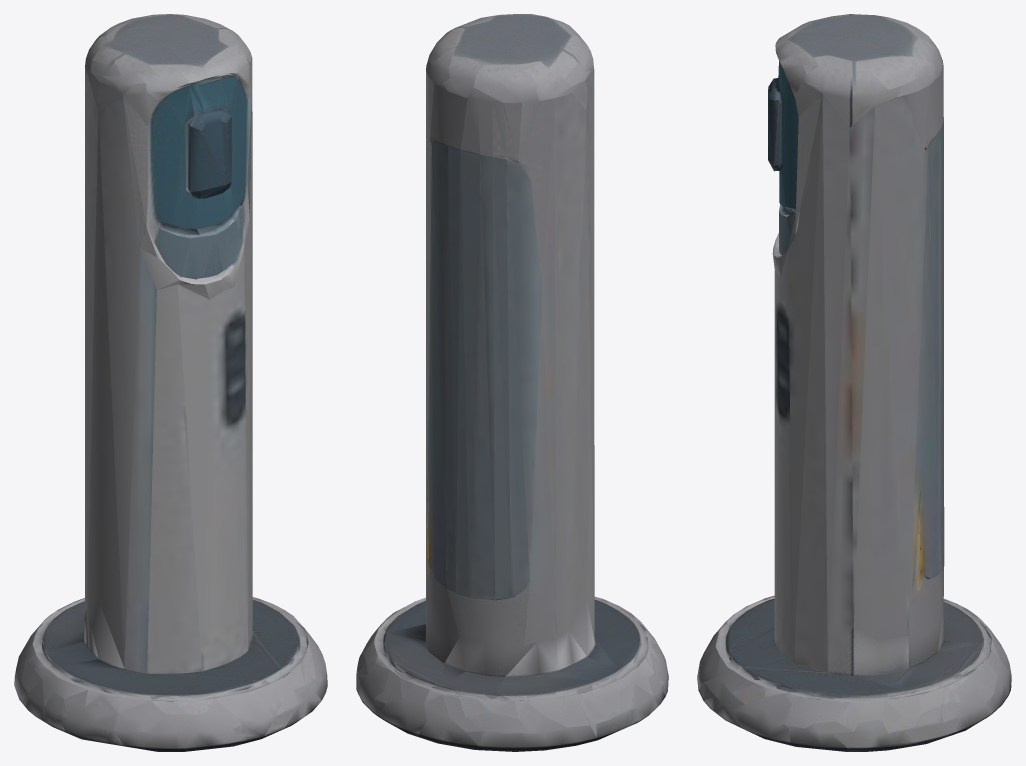
Rendered from deco_borne.glb.
3 renders of one model, left to right at view 1: azimuth 30°, elevation 25°; view 2: azimuth 150°, elevation 25°; view 3: azimuth 270°, elevation 25°, orthographic.
Parts seen in each view (by area): view 1: mesh_node; view 2: mesh_node; view 3: mesh_node.
Part boxes in pixels (<box>): mesh_node: <box>14,14,327,751</box>; mesh_node: <box>356,14,668,751</box>; mesh_node: <box>697,14,1011,751</box>.
Size of the model in its own units: 0.8326 by 1.9 by 0.832.
Materials: 1 (1 with a texture image).
